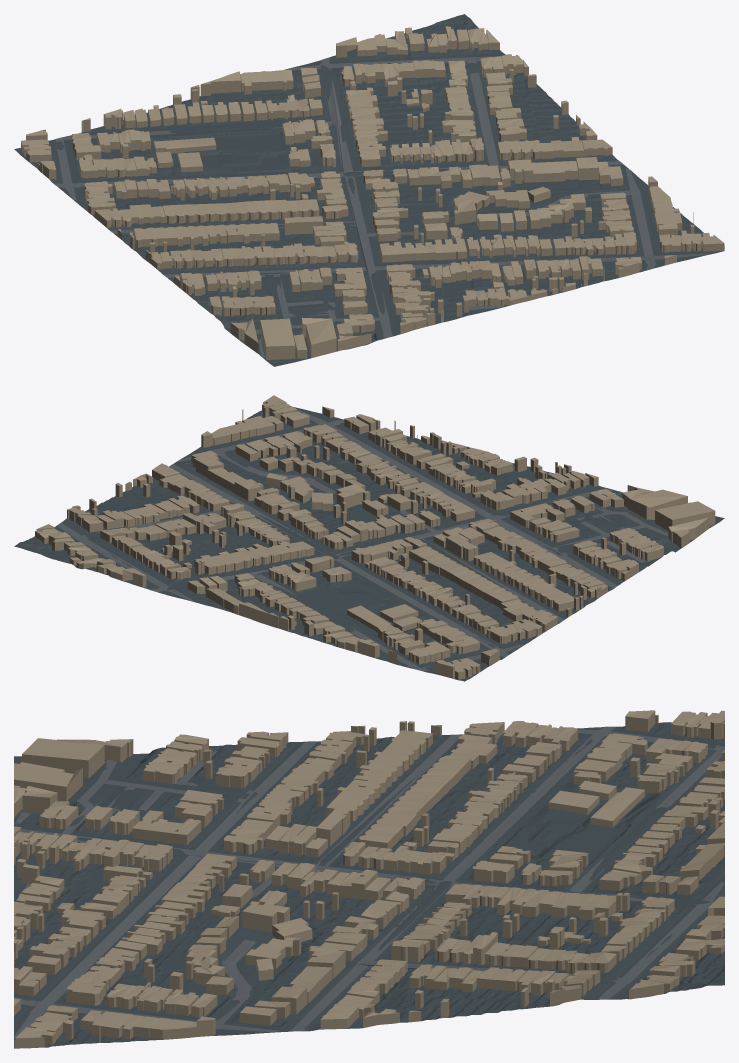
The model's file is epsg26910-1428-10868.lod0.glb.
The picture shows the model from 3 angles, top to bottom: view 1: azimuth 30°, elevation 25°; view 2: azimuth 150°, elevation 25°; view 3: azimuth 270°, elevation 25°; orthographic projection. The views are drawn at different scales.
Parts seen in each view (by area): view 1: epsg26910-1428-10868-lod0; view 2: epsg26910-1428-10868-lod0; view 3: epsg26910-1428-10868-lod0.
Part boxes in pixels (box(x1,y1,x2,y2)): epsg26910-1428-10868-lod0: box(14, 14, 724, 366); epsg26910-1428-10868-lod0: box(14, 395, 724, 681); epsg26910-1428-10868-lod0: box(14, 710, 724, 1048).
Size of the model in its own units: 384 by 46.17 by 384.
